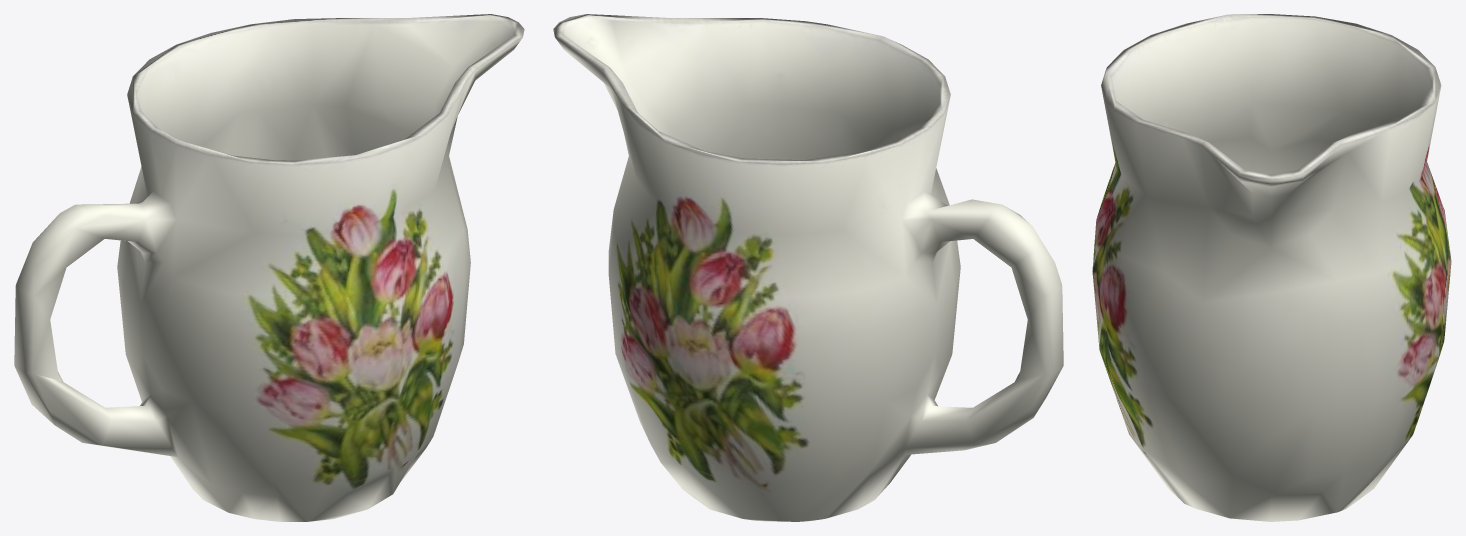
File: jug_01.glb
3 views of the same model, side by side, from view 1: azimuth 30°, elevation 25°; view 2: azimuth 150°, elevation 25°; view 3: azimuth 270°, elevation 25° (orthographic).
Parts seen in each view (by area): view 1: jug_01; view 2: jug_01; view 3: jug_01.
Part boxes in pixels (x1,y1,x2,y2): jug_01: (14,14,524,521); jug_01: (553,14,1063,521); jug_01: (1092,14,1451,521).
Size of the model in its own units: 0.2732 by 0.2103 by 0.1668.
Materials: 1 (1 with a texture image).
